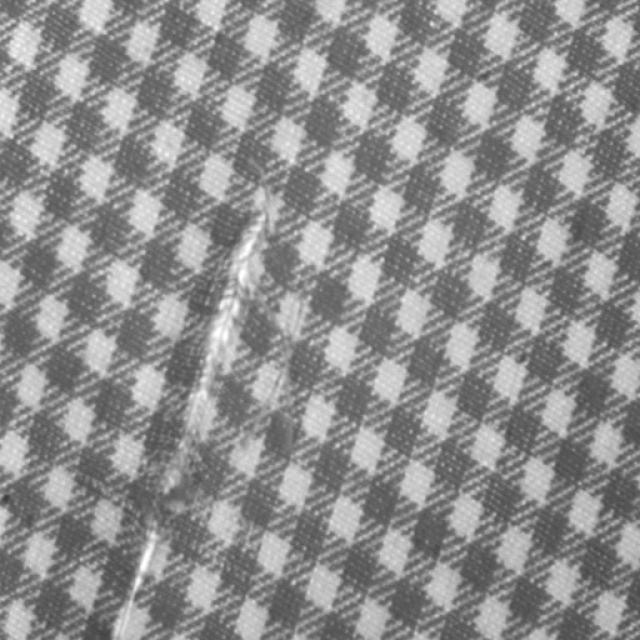Hole-Defect: (111, 189, 274, 639)
